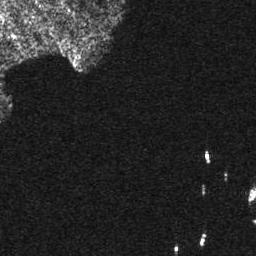ship: (248, 185, 256, 201), (200, 232, 208, 247), (204, 150, 211, 165)
